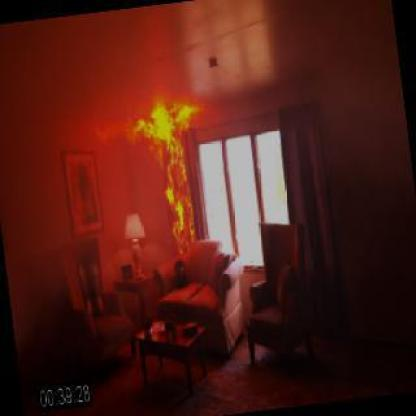Fire: (119, 89, 215, 257)
